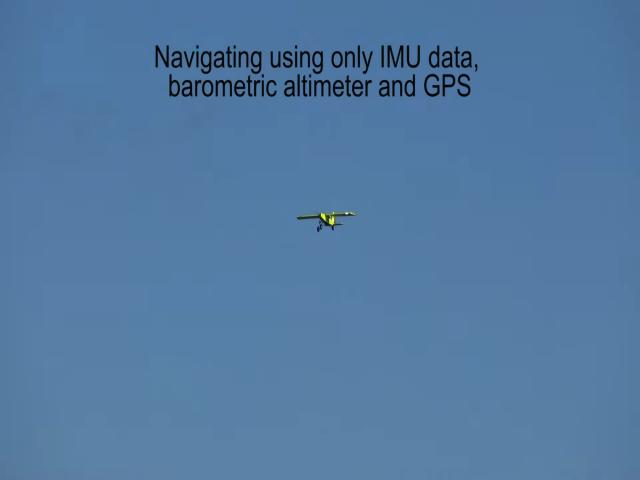plane: (297, 210, 355, 230)
